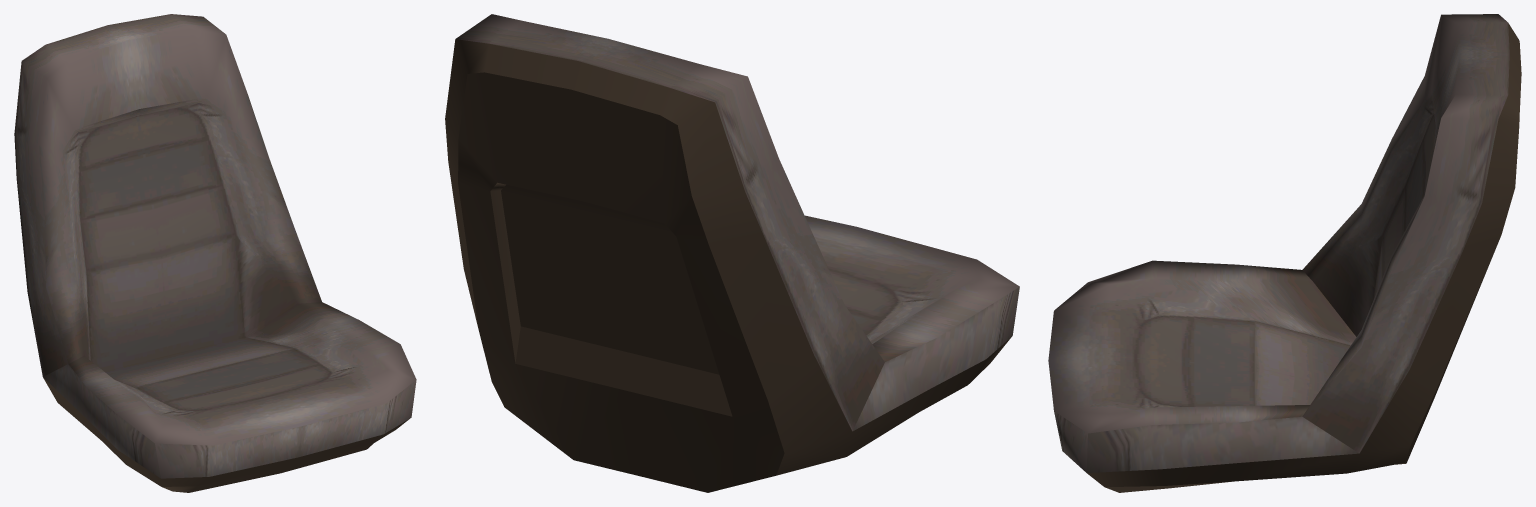
The model's file is LeatherSeat.fbx.
The picture shows the model from 3 angles, left to right: view 1: azimuth 30°, elevation 25°; view 2: azimuth 150°, elevation 25°; view 3: azimuth 270°, elevation 25°; orthographic projection. The views are drawn at different scales.
Visible parts, largest first — view 1: node_id226, node_id224; view 2: node_id224, node_id226; view 3: node_id226, node_id224.
Part boxes in pixels (<box>): node_id226: <box>14,14,416,478</box>; node_id224: <box>43,377,409,492</box>; node_id224: <box>445,39,1011,492</box>; node_id226: <box>456,14,1019,431</box>; node_id226: <box>1048,14,1509,472</box>; node_id224: <box>1087,23,1521,492</box>.
Size of the model in its own units: 0.4688 by 0.512 by 0.5702.
2 materials, 2 textured.
